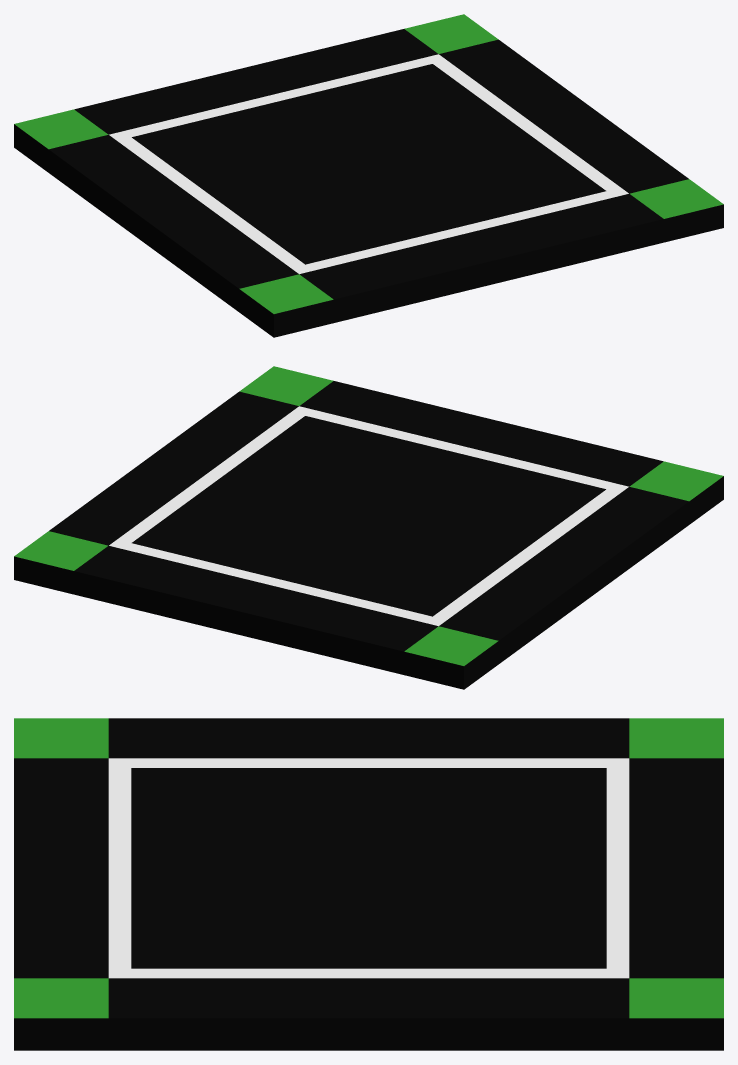
Rendered from 4-way_road.fbx.
3 views of the same model, one above another, from view 1: azimuth 30°, elevation 25°; view 2: azimuth 150°, elevation 25°; view 3: azimuth 270°, elevation 25° (orthographic). The views are drawn at different scales.
Visible parts, largest first — view 1: Cube.001; view 2: Cube.001; view 3: Cube.001.
Part boxes in pixels (x1,y1,x2,y2): Cube.001: (14,14,723,337); Cube.001: (14,366,723,689); Cube.001: (14,718,723,1050).
Bounding box in the file's own units: 200 × 10 × 200.
